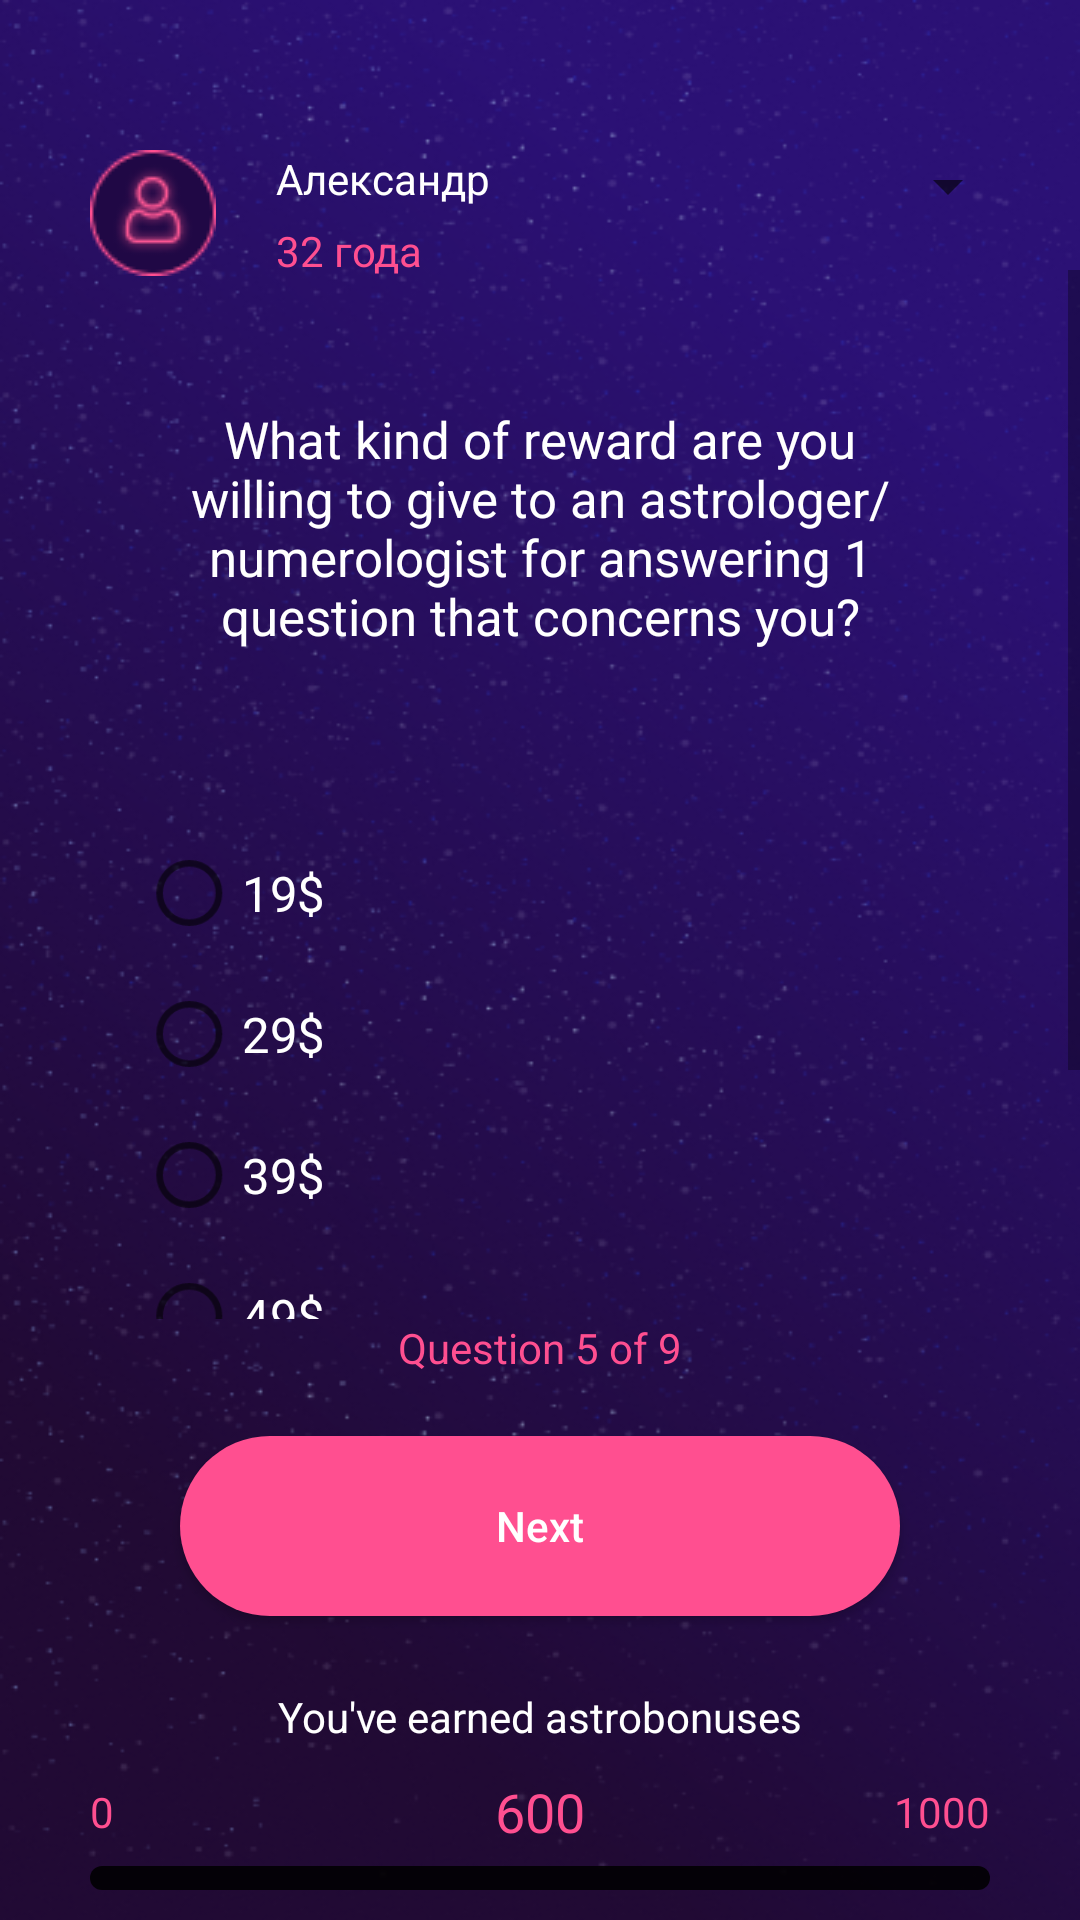

Where to tap for icons on this 1080*1920 app screen, as [x,y]:
user: [153,213]
